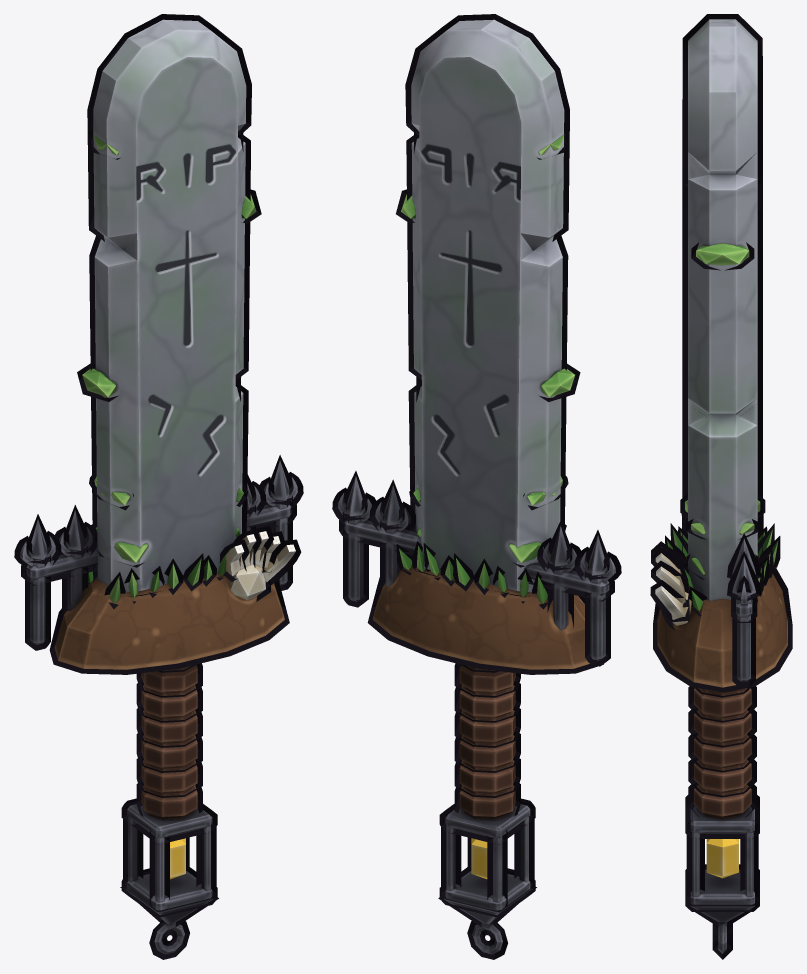
The model's file is TombstoneSword.fbx.
The picture shows the model from 3 angles, left to right: view 1: azimuth 30°, elevation 25°; view 2: azimuth 150°, elevation 25°; view 3: azimuth 270°, elevation 25°; orthographic projection.
Parts seen in each view (by area): view 1: TombstoneSword, TombstoneSwordOutline; view 2: TombstoneSword, TombstoneSwordOutline, TombstoneSwordPumpkinGlow; view 3: TombstoneSword, TombstoneSwordOutline, TombstoneSwordPumpkinGlow.
Boxes of the visible parts, <box> form: TombstoneSword: <box>20,19,297,954</box>; TombstoneSwordOutline: <box>14,14,303,959</box>; TombstoneSword: <box>338,19,615,954</box>; TombstoneSwordOutline: <box>332,14,621,959</box>; TombstoneSwordPumpkinGlow: <box>471,838,487,879</box>; TombstoneSword: <box>655,19,787,953</box>; TombstoneSwordOutline: <box>650,14,792,959</box>; TombstoneSwordPumpkinGlow: <box>706,839,738,878</box>.
Size of the model in its own units: 121 by 385 by 53.05.
2 materials, 1 textured.
